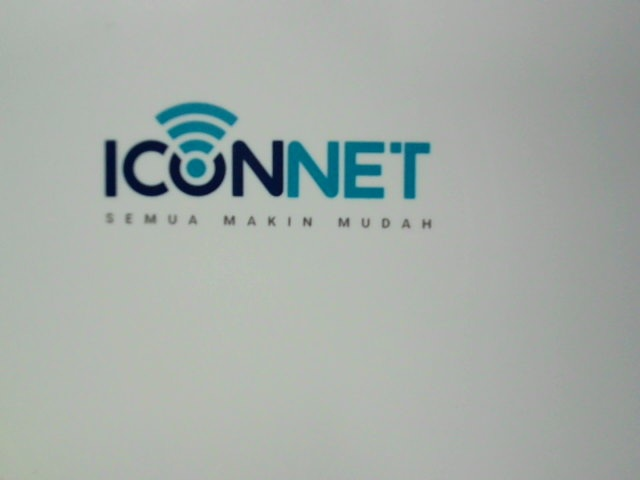BM_ICONNET: (75, 90, 476, 247)
